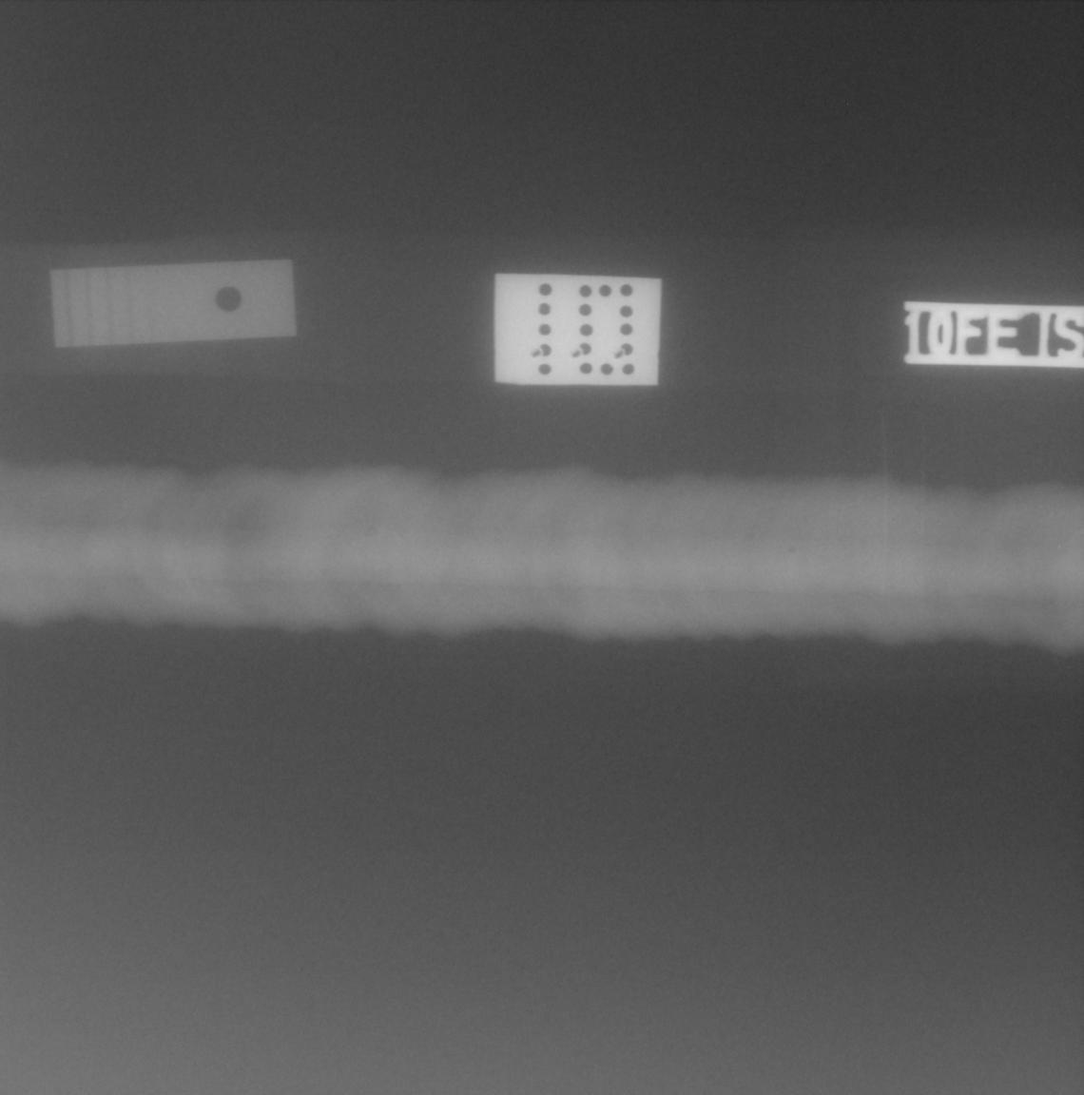Pore/Porosity: (788, 545, 797, 553)
Reference Standard 1: (49, 258, 297, 347)
